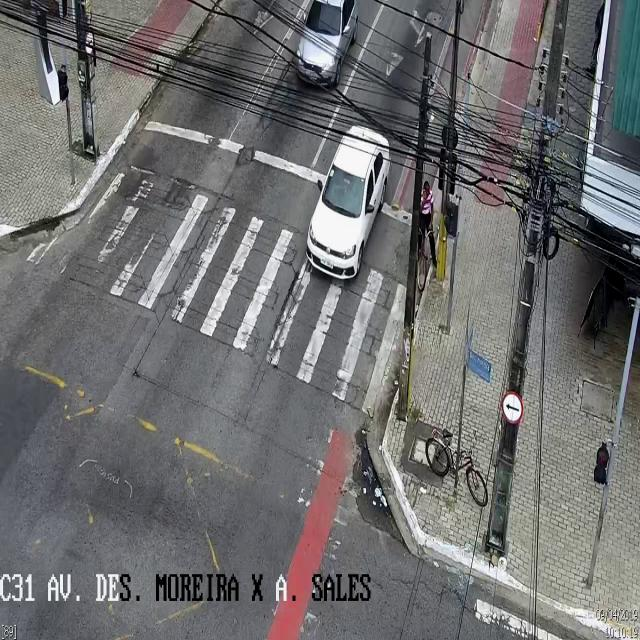Car: (306, 123, 390, 280), (295, 5, 359, 86)
